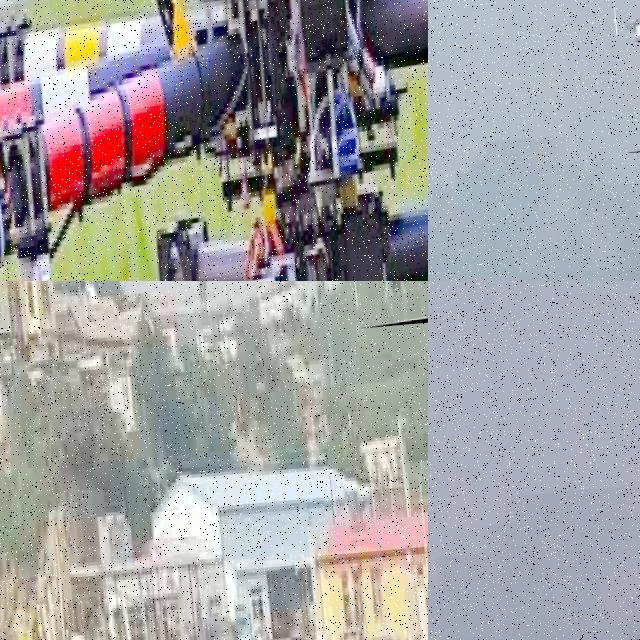0: (350, 281, 428, 328)
drone: (0, 0, 428, 281)
